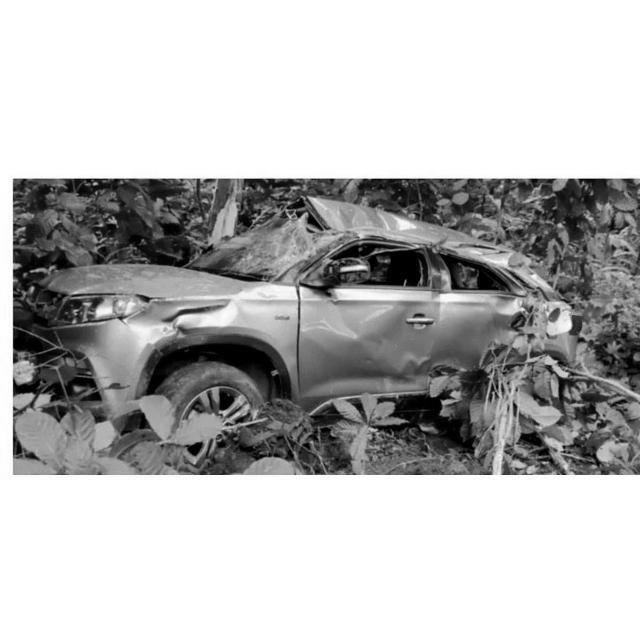Front-windscreen-damage: (178, 202, 329, 287)
doorouter-dent: (303, 284, 441, 395)
fender-dent: (143, 296, 292, 384)
roof-dent: (307, 196, 515, 266)
